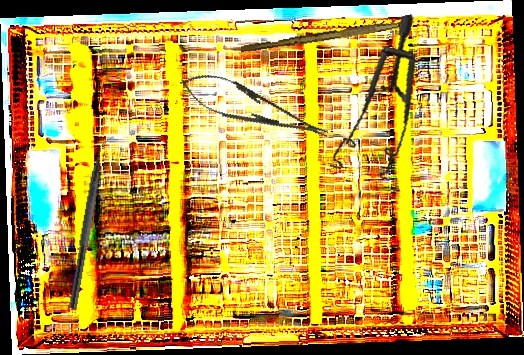Chopper: (68, 133, 117, 311)
Needle Holder: (174, 63, 334, 153)
Scalpel Handle: (240, 17, 401, 56)
Speculum: (304, 13, 444, 192)
